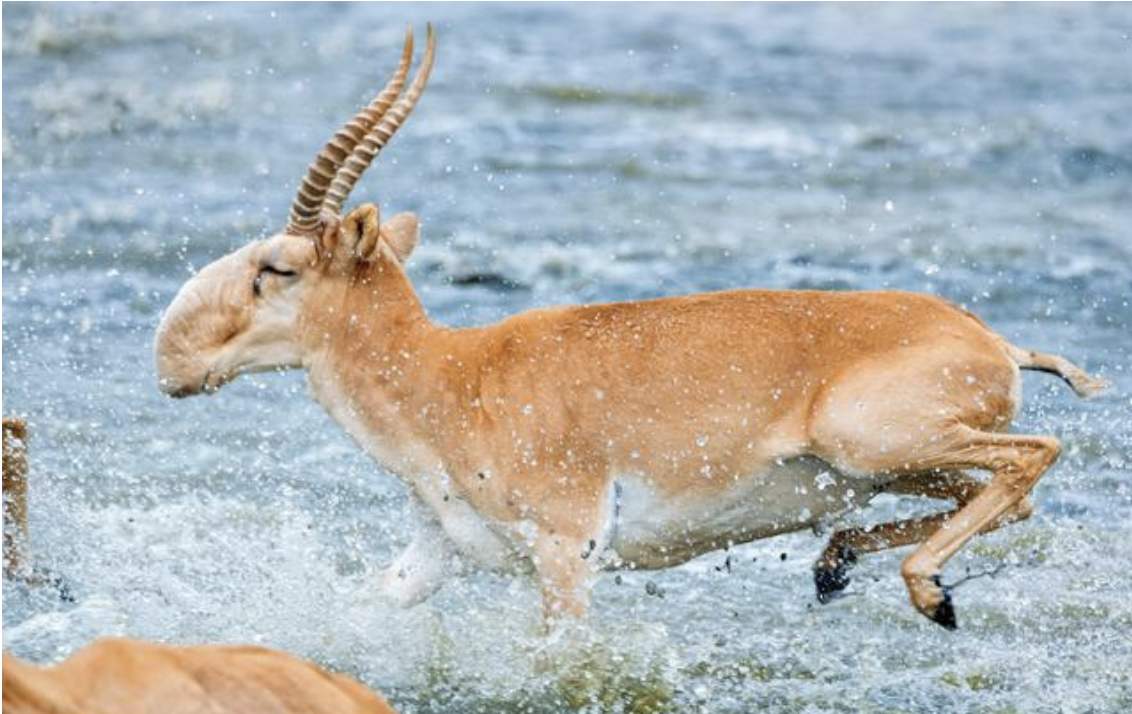saiga: (126, 12, 1088, 647)
